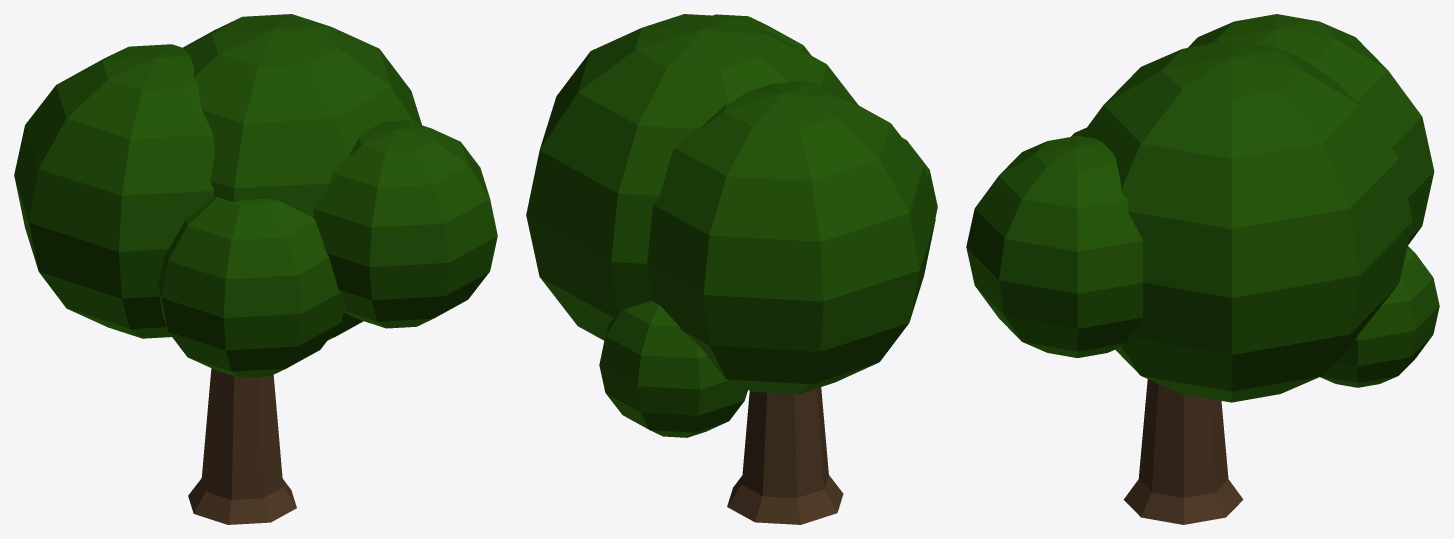
The model's file is TreeBasic2.glb.
3 renders of one model, left to right at view 1: azimuth 30°, elevation 25°; view 2: azimuth 150°, elevation 25°; view 3: azimuth 270°, elevation 25°, orthographic. The views are drawn at different scales.
Visible parts, largest first — view 1: Leaves.001_Neutral_Mid_Tree, Leaves.003_Neutral_Mid_Tree, Leaves_Neutral_Mid_Tree, Leaves.002_Neutral_Mid_Tree, Trunk_Neutral_Mid_Tree; view 2: Leaves.001_Neutral_Mid_Tree, Leaves.003_Neutral_Mid_Tree, Leaves.004_Neutral_Mid_Tree, Trunk_Neutral_Mid_Tree, Leaves_Neutral_Mid_Tree; view 3: Leaves.003_Neutral_Mid_Tree, Leaves_Neutral_Mid_Tree, Leaves.001_Neutral_Mid_Tree, Trunk_Neutral_Mid_Tree, Leaves.004_Neutral_Mid_Tree.
Part boxes in pixels (x1,y1,x2,y2): Leaves.001_Neutral_Mid_Tree: (14,44,214,338); Leaves.003_Neutral_Mid_Tree: (183,14,421,340); Leaves_Neutral_Mid_Tree: (313,120,497,328); Leaves.002_Neutral_Mid_Tree: (158,197,345,377); Trunk_Neutral_Mid_Tree: (188,368,296,524); Leaves.001_Neutral_Mid_Tree: (647,81,935,394); Leaves.003_Neutral_Mid_Tree: (526,14,858,340); Leaves.004_Neutral_Mid_Tree: (599,300,747,437); Trunk_Neutral_Mid_Tree: (727,387,843,524); Leaves_Neutral_Mid_Tree: (713,14,811,55); Leaves.003_Neutral_Mid_Tree: (1081,40,1412,402); Leaves_Neutral_Mid_Tree: (966,135,1142,357); Leaves.001_Neutral_Mid_Tree: (1188,14,1434,244); Trunk_Neutral_Mid_Tree: (1123,379,1243,524); Leaves.004_Neutral_Mid_Tree: (1320,245,1439,387).
Size of the model in its own units: 2.59 by 2.94 by 2.68.
